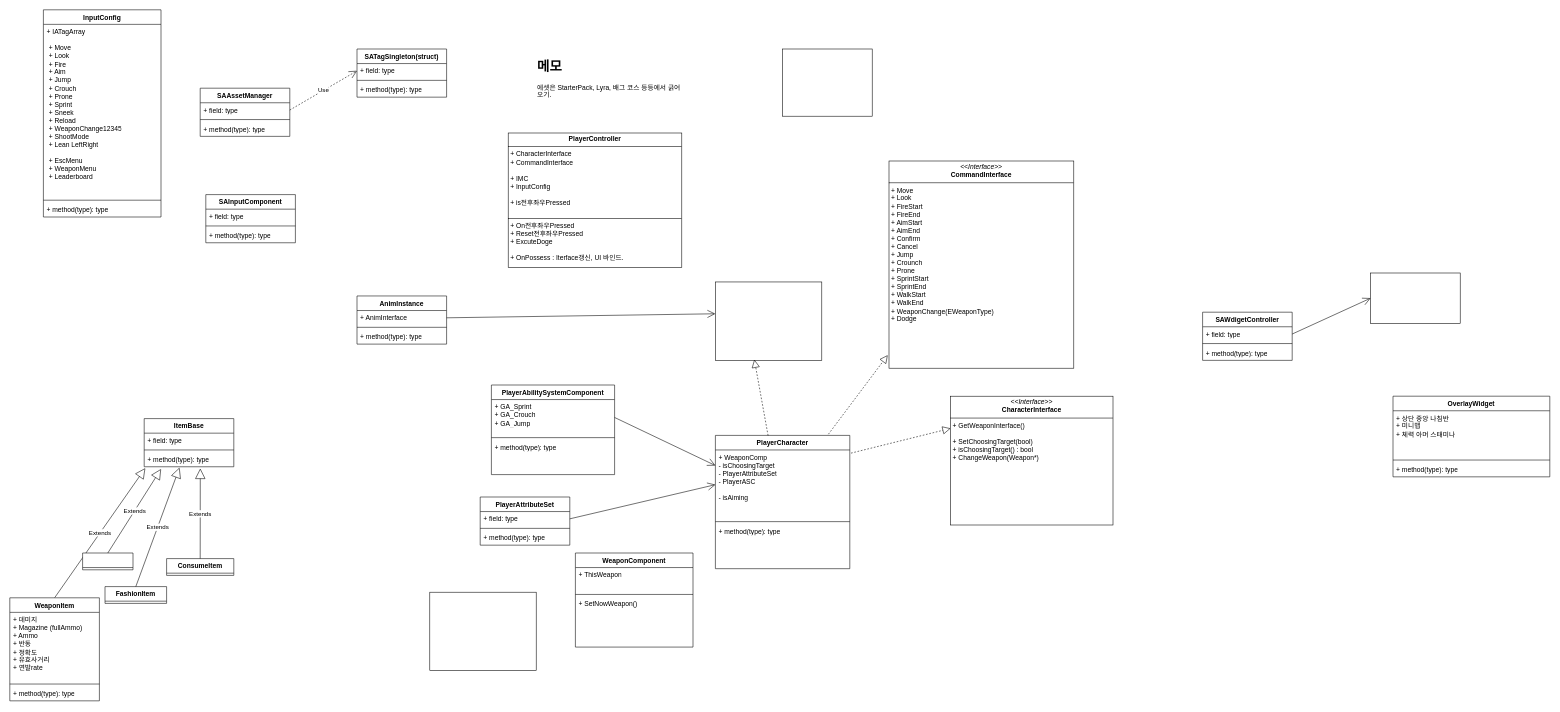
This 1560x712 diagram has some shape labels left out. The shapes that lost their labels are listed below. From the top down, each one's centre as x and y in pixels, then its label:
At [827,82]: "EWeaponType MainWeapon SubWeapon MeleeWeapon ThrowWeapon SpecialEquipment".
At [1415,297]: "SAWidget + SAWidgetController + method(): Type".
At [768,320]: "<<Interface>> AnimInterface + GetStandingState + GetWeaponState + IsAiming".
At [107,561]: "ArmorItem".
At [482,631]: "<<Interface>> WeaponInterface + method1(Type): Type + method2(Type, Type): Type".
